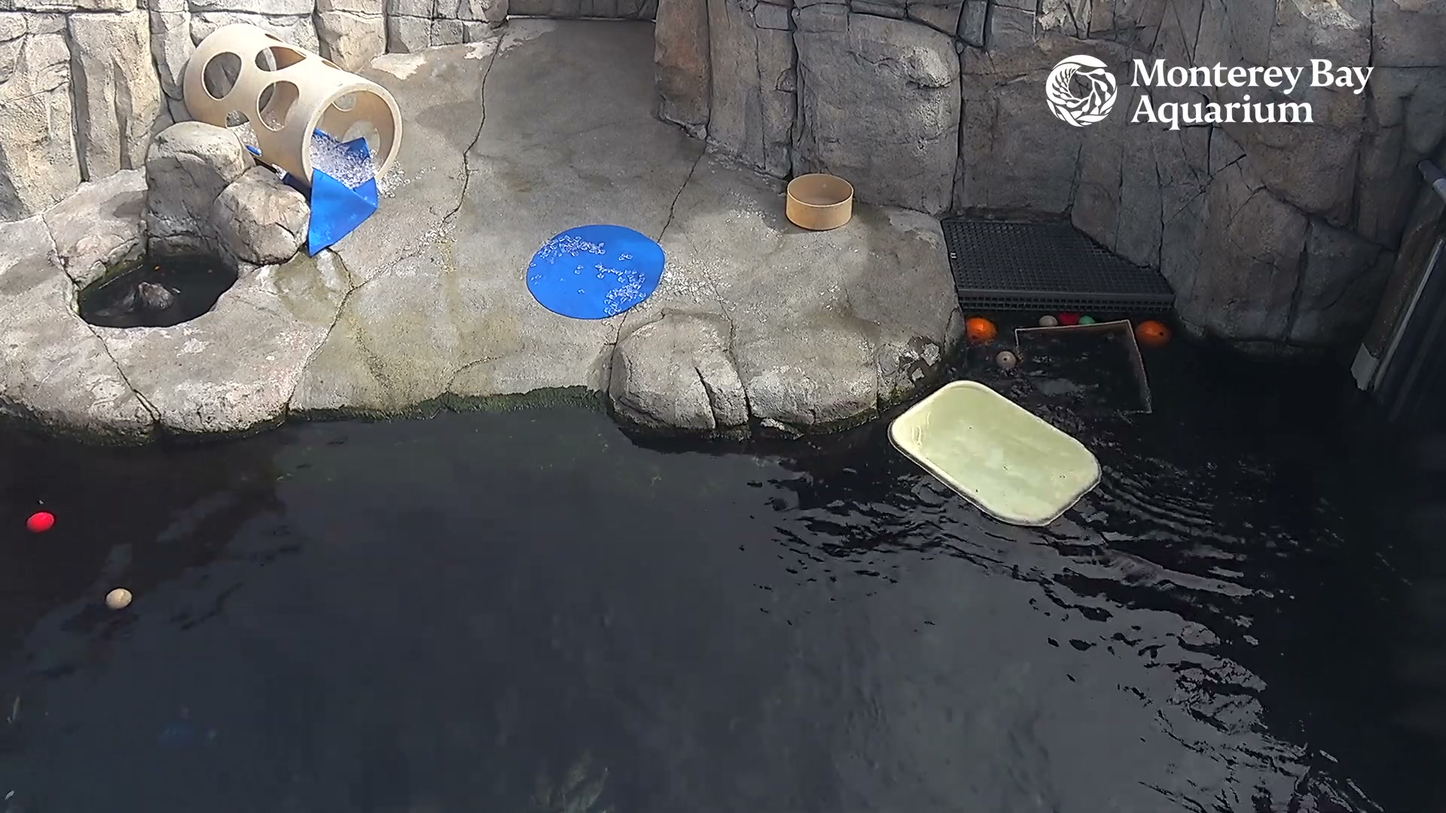Southern Sea Otter: (113, 268, 183, 321)
